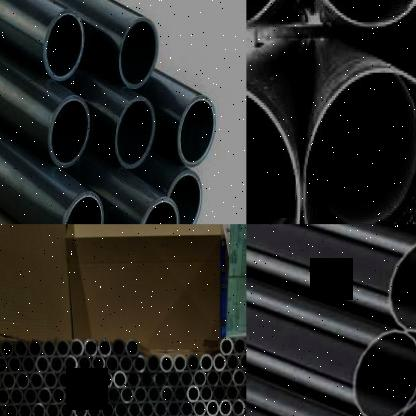pipe: (303, 67, 416, 224), (246, 80, 299, 224), (350, 326, 416, 416), (42, 8, 85, 82), (48, 95, 90, 169), (118, 16, 159, 89), (386, 237, 416, 335), (115, 96, 155, 169), (177, 95, 216, 168), (167, 170, 202, 224), (62, 191, 104, 224), (137, 197, 180, 224), (91, 353, 106, 374), (43, 370, 58, 390), (232, 336, 247, 356), (125, 338, 140, 358), (160, 353, 174, 374), (146, 353, 160, 374), (119, 353, 133, 374), (22, 354, 36, 375), (51, 386, 66, 405), (226, 352, 240, 372), (78, 354, 92, 374), (64, 354, 78, 374), (36, 354, 50, 374), (8, 355, 22, 375), (193, 368, 207, 388), (72, 370, 86, 390), (58, 370, 72, 390), (30, 370, 44, 390), (16, 370, 30, 390), (2, 370, 16, 390), (186, 384, 200, 404), (173, 384, 187, 404), (160, 384, 174, 404), (66, 386, 80, 406), (24, 386, 38, 406), (10, 386, 24, 406), (112, 338, 126, 358), (98, 338, 112, 358), (84, 338, 98, 358), (70, 338, 84, 358), (106, 353, 119, 374), (212, 353, 226, 372), (200, 353, 214, 372), (172, 354, 186, 373), (133, 354, 147, 373), (219, 368, 233, 387), (180, 369, 194, 388), (206, 369, 220, 388), (166, 369, 180, 388), (86, 370, 100, 389), (80, 386, 94, 405), (38, 386, 52, 405), (220, 337, 234, 356), (56, 339, 70, 358), (42, 339, 56, 358), (50, 354, 63, 374), (29, 338, 42, 358), (14, 340, 28, 358), (0, 340, 14, 358), (186, 354, 200, 372), (154, 370, 168, 388), (140, 370, 154, 388), (127, 370, 141, 388), (113, 370, 127, 388), (212, 384, 226, 402), (147, 386, 161, 404), (134, 386, 148, 404), (120, 386, 134, 404), (107, 386, 121, 404), (93, 386, 107, 404), (100, 370, 113, 389), (200, 384, 213, 403), (58, 401, 74, 416), (206, 399, 220, 416), (233, 368, 246, 386), (232, 398, 245, 416), (219, 398, 232, 416), (154, 400, 168, 416), (140, 400, 154, 416), (128, 400, 142, 416), (114, 400, 128, 416), (100, 400, 114, 416), (193, 399, 206, 416), (180, 399, 193, 416), (226, 384, 238, 402), (87, 401, 101, 416), (74, 401, 88, 416), (46, 401, 60, 416), (168, 399, 180, 416), (32, 402, 46, 416), (18, 402, 32, 416), (4, 402, 18, 416), (0, 387, 10, 406), (238, 383, 246, 402), (0, 356, 8, 374), (240, 352, 247, 370), (0, 402, 4, 416), (212, 413, 225, 416), (0, 372, 2, 390), (225, 413, 237, 416), (160, 414, 174, 416), (200, 414, 213, 416), (187, 414, 200, 416)
